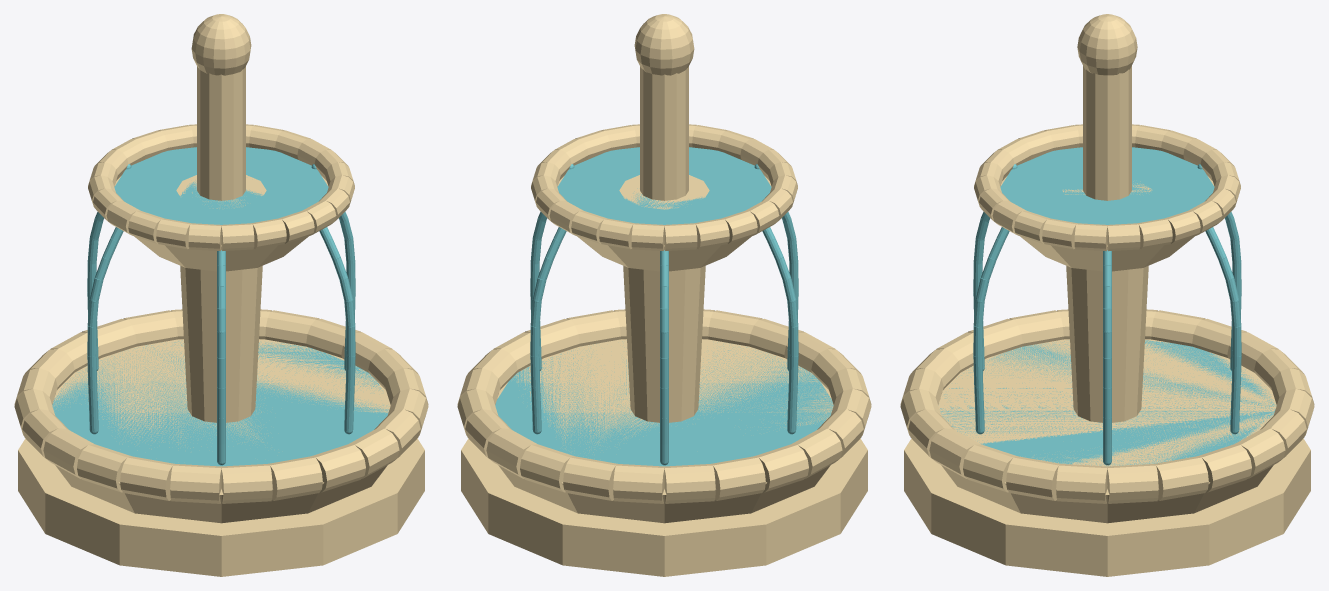
Rendered from tiered-fountain.glb.
3 renders of one model, left to right at view 1: azimuth 30°, elevation 25°; view 2: azimuth 150°, elevation 25°; view 3: azimuth 270°, elevation 25°, orthographic.
Parts seen in each view (by area): view 1: tiered-fountain; view 2: tiered-fountain; view 3: tiered-fountain.
Part boxes in pixels (<box>): tiered-fountain: <box>14,14,428,576</box>; tiered-fountain: <box>457,14,871,576</box>; tiered-fountain: <box>900,14,1314,576</box>.
Size of the model in its own units: 1.1 by 1.39 by 1.1.
